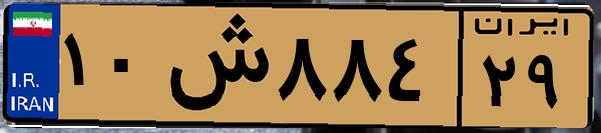0: (110, 28, 158, 98)
1: (57, 26, 110, 100)
2: (475, 38, 525, 113)
4: (385, 28, 445, 110)
8: (270, 28, 330, 110), (330, 28, 385, 110)
9: (525, 38, 570, 115)
ش: (158, 12, 270, 120)
